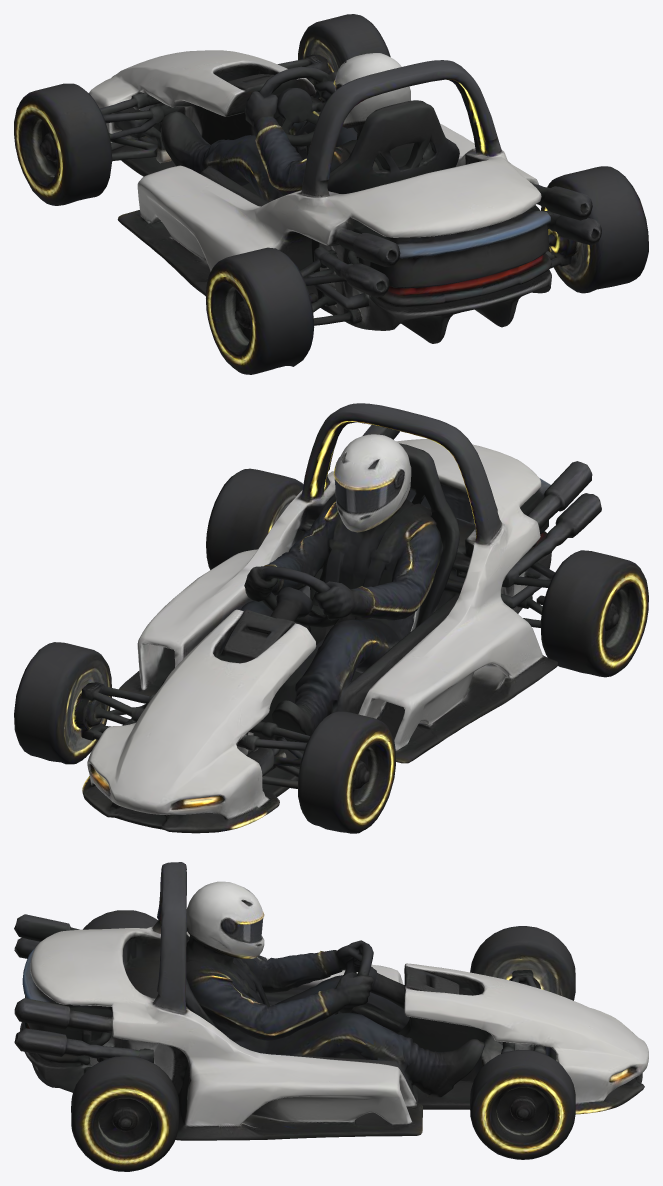
File: nomad-final.glb
The picture shows the model from 3 angles, top to bottom: view 1: azimuth 30°, elevation 25°; view 2: azimuth 150°, elevation 25°; view 3: azimuth 270°, elevation 25°; orthographic projection. The views are drawn at different scales.
Parts seen in each view (by area): view 1: chassis, wheel-rl, wheel-fl, wheel-rr, wheel-fr; view 2: chassis, wheel-rl, wheel-rr, wheel-fl, wheel-fr; view 3: chassis, wheel-rr, wheel-fr, wheel-fl, wheel-rl.
Boxes of the visible parts, x1,y1,x2,y2 form: chassis: [14, 14, 601, 343]; wheel-rl: [206, 247, 314, 374]; wheel-fl: [18, 83, 112, 205]; wheel-rr: [541, 166, 648, 293]; wheel-fr: [305, 14, 390, 115]; chassis: [14, 403, 601, 833]; wheel-rl: [540, 550, 648, 677]; wheel-rr: [206, 468, 303, 569]; wheel-fl: [307, 711, 395, 833]; wheel-fr: [38, 642, 111, 762]; chassis: [14, 862, 648, 1156]; wheel-rr: [71, 1056, 179, 1171]; wheel-fr: [470, 1049, 557, 1159]; wheel-fl: [470, 926, 563, 996]; wheel-rl: [83, 910, 157, 929].
Bounding box in the file's own units: 2.87 × 1.64 × 4.5.
1 material, 1 textured.
